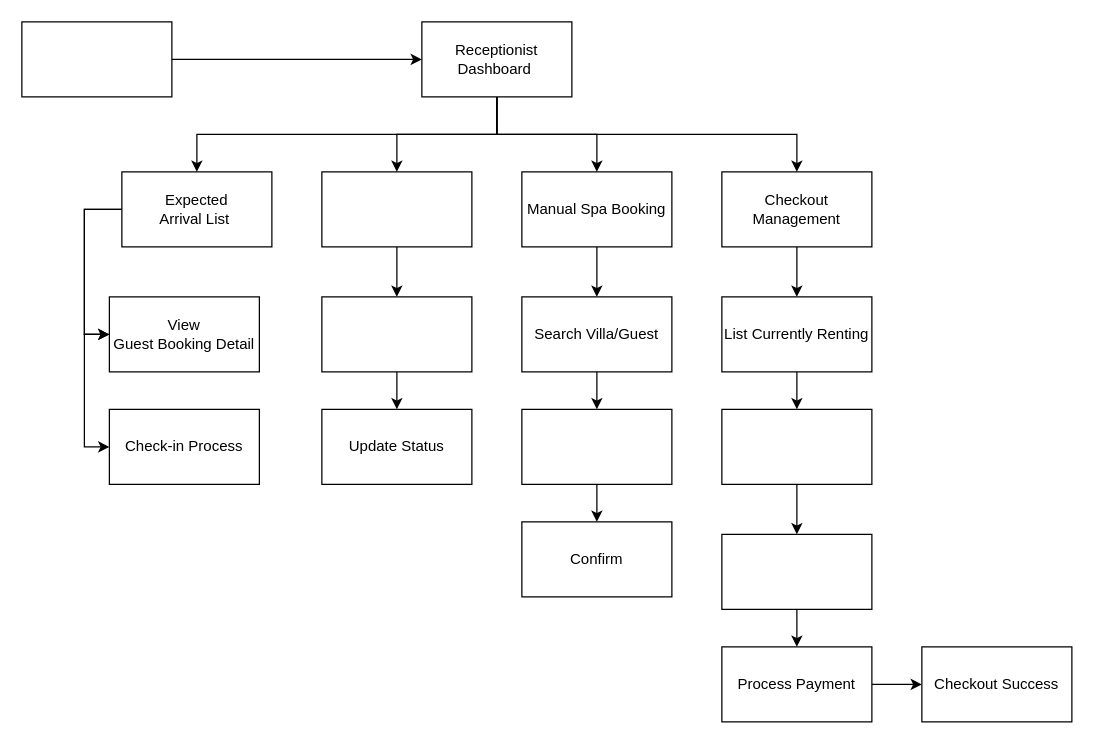
Image size: 1094x744. Some labels were removed from this diagram. The shapes that lost their labels are listed below. From the top down, each one's centre as x and y in pixels, then its label:
[96,59]: Login
[396,209]: Villa Status Management
[396,334]: View Villa List
[596,446]: Select Service & Time Slot
[796,446]: Detail
[796,571]: Final Payment & Checkout
